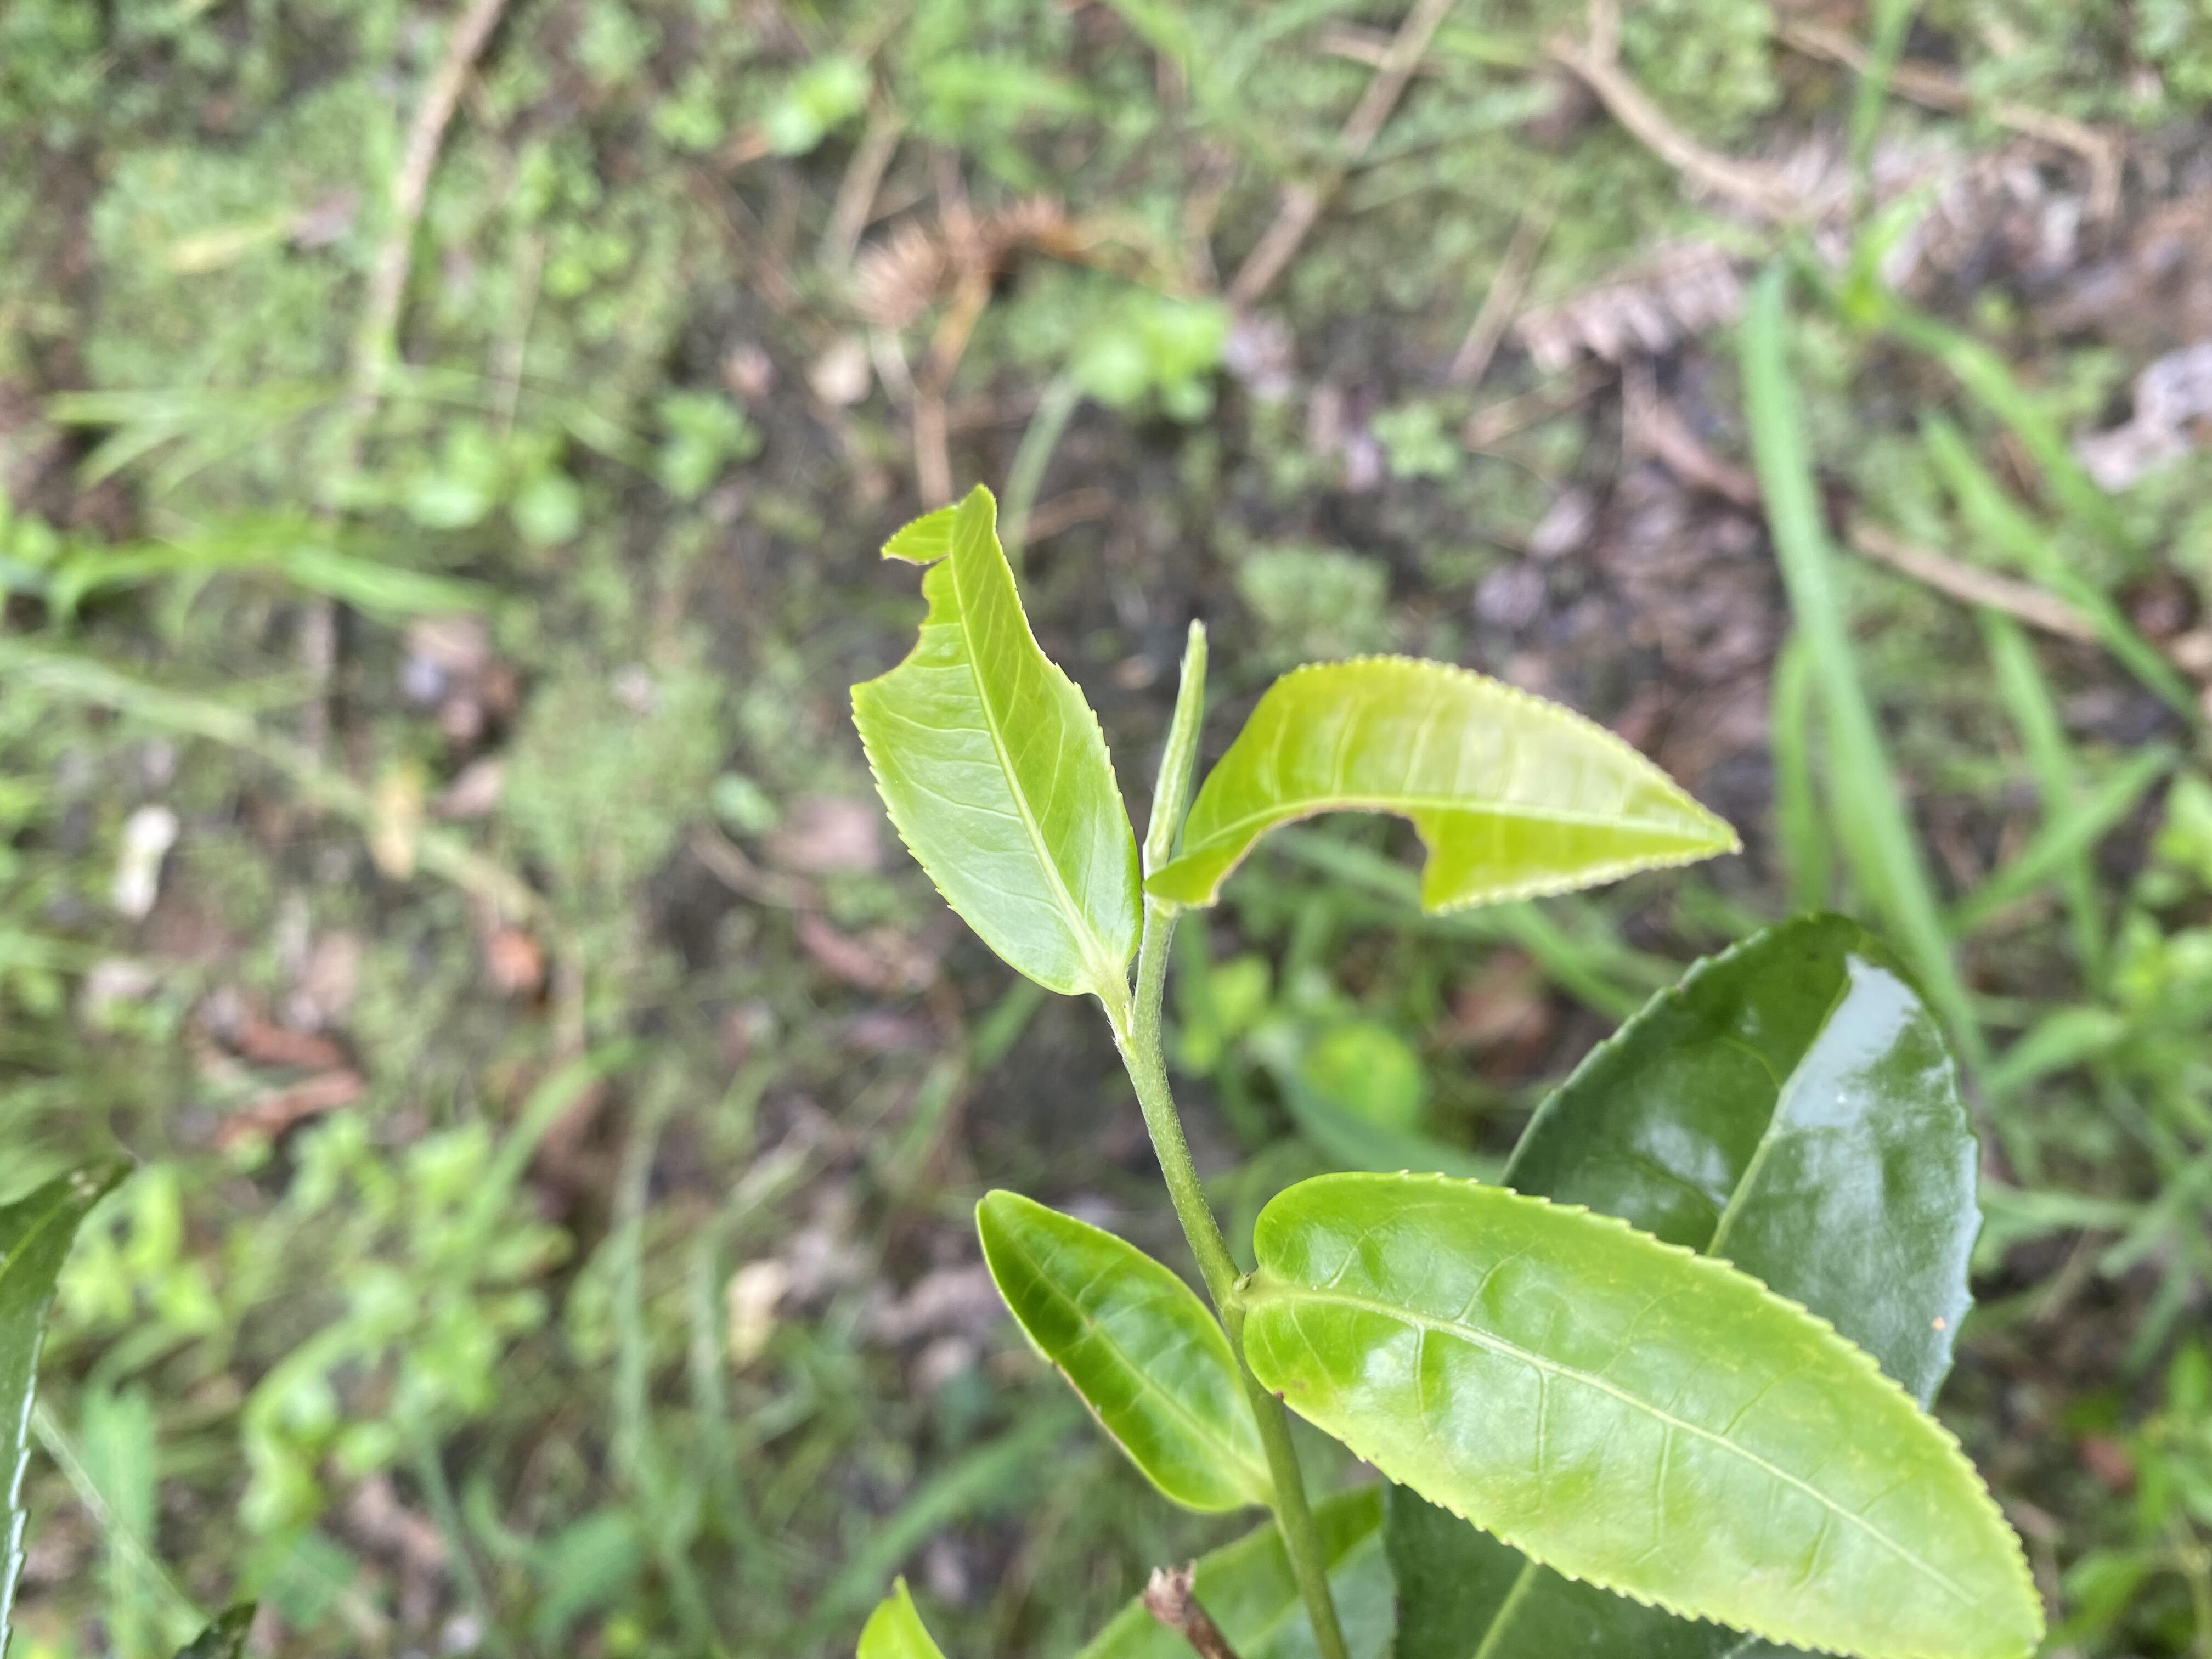chihuo_low: (1151, 650, 1745, 920), (846, 484, 1141, 1000)
healthy: (1247, 1173, 2050, 1656), (968, 1187, 1268, 1514)
